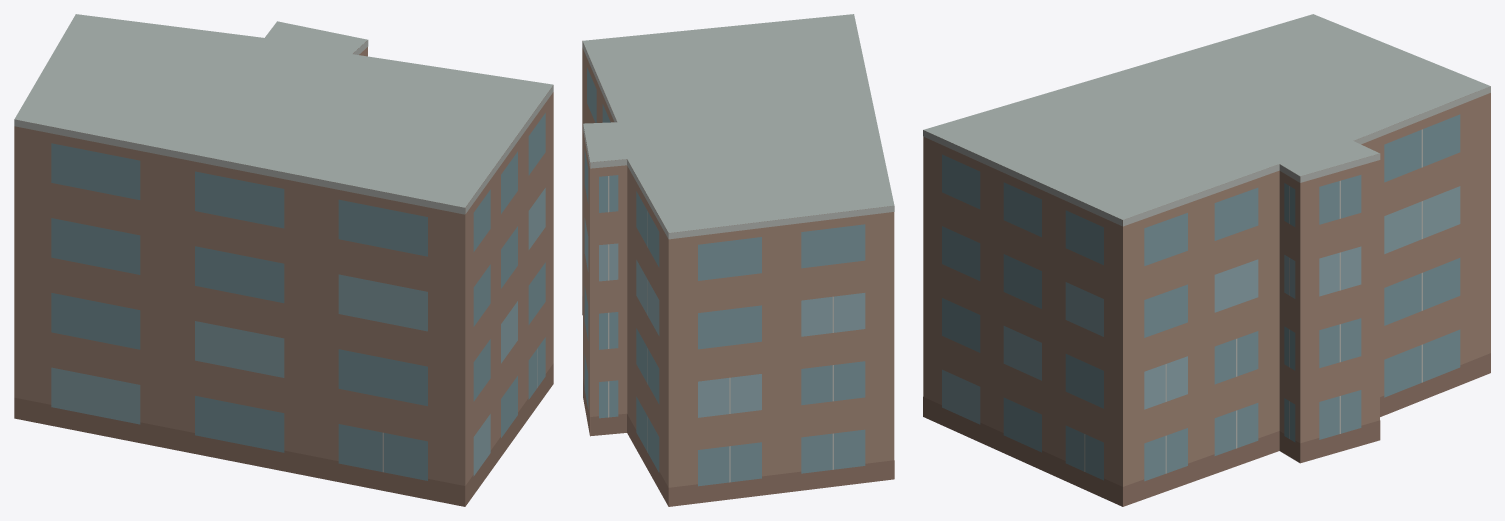
File: survey-upis-32810247.glb
The picture shows the model from 3 angles, left to right: view 1: azimuth 30°, elevation 25°; view 2: azimuth 150°, elevation 25°; view 3: azimuth 270°, elevation 25°; orthographic projection. The views are drawn at different scales.
Visible parts, largest first — view 1: survey-upis-32810247.tmp; view 2: survey-upis-32810247.tmp; view 3: survey-upis-32810247.tmp.
Part boxes in pixels (left/top/right/bottom): survey-upis-32810247.tmp: left=14, top=14, right=553, bottom=506; survey-upis-32810247.tmp: left=582, top=14, right=894, bottom=506; survey-upis-32810247.tmp: left=923, top=14, right=1490, bottom=506.
Size of the model in its own units: 16.41 by 10.65 by 19.11.
